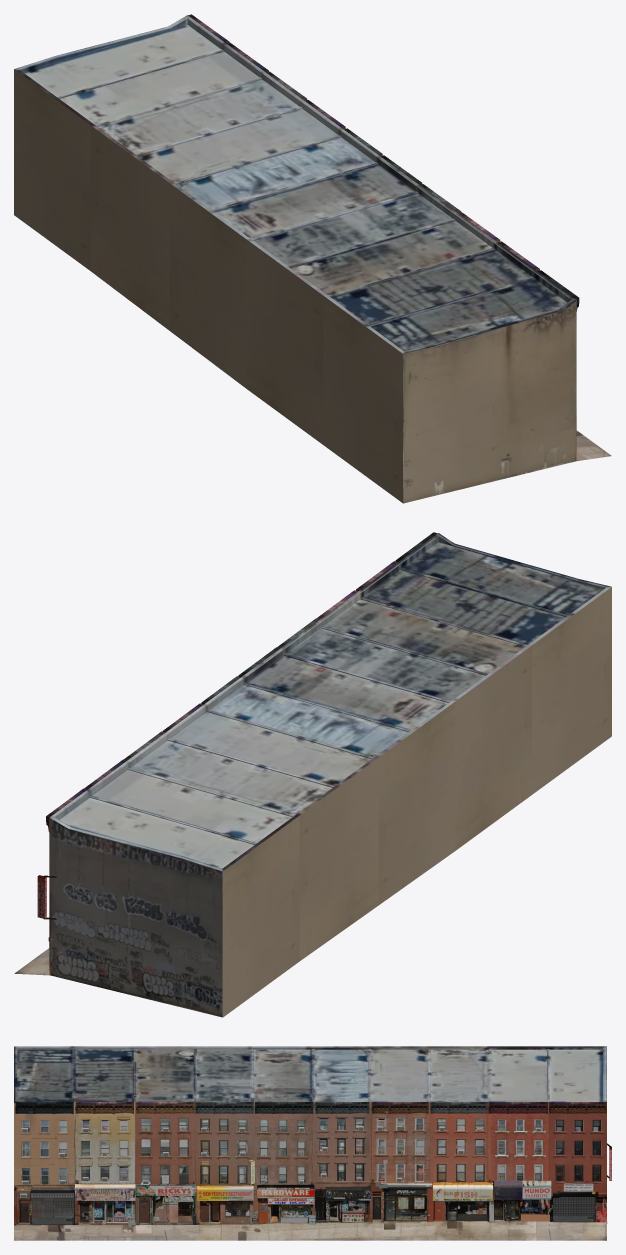
Rendered from brooklyn-row.glb.
3 renders of one model, top to bottom at view 1: azimuth 30°, elevation 25°; view 2: azimuth 150°, elevation 25°; view 3: azimuth 270°, elevation 25°, orthographic. The views are drawn at different scales.
Parts seen in each view (by area): view 1: Object_4; view 2: Object_4; view 3: Object_4.
Boxes of the visible parts, x1=… form: Object_4: x1=14, y1=14, x2=611, y2=503; Object_4: x1=14, y1=532, x2=611, y2=1017; Object_4: x1=14, y1=1046, x2=611, y2=1240.
Size of the model in its own units: 20.32 by 15.35 by 66.09.
1 material, 1 textured.
